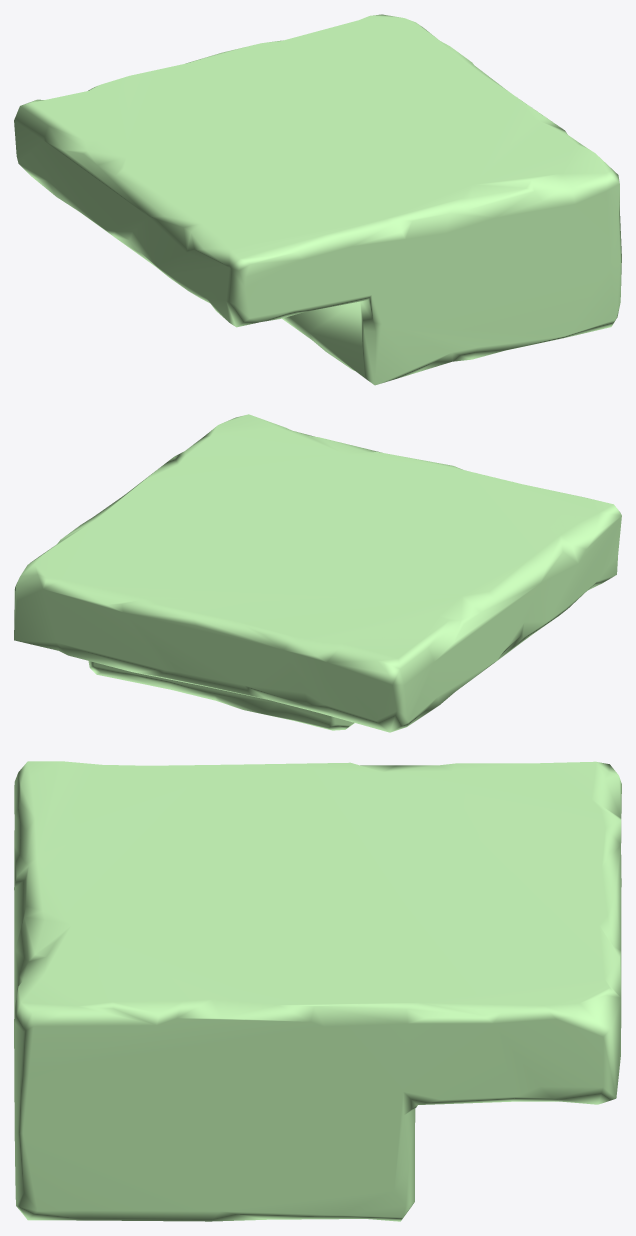
Rendered from stone_tiles_l_ver1_LOD3.fbx.
The picture shows the model from 3 angles, top to bottom: view 1: azimuth 30°, elevation 25°; view 2: azimuth 150°, elevation 25°; view 3: azimuth 270°, elevation 25°; orthographic projection. The views are drawn at different scales.
Visible parts, largest first — view 1: Cube_007lod3; view 2: Cube_007lod3; view 3: Cube_007lod3.
Boxes of the visible parts, left/top/right/bottom form: Cube_007lod3: left=14, top=14, right=621, bottom=385; Cube_007lod3: left=14, top=414, right=621, bottom=732; Cube_007lod3: left=14, top=761, right=621, bottom=1221.
Bounding box in the file's own units: 70.96 × 27.91 × 71.02.
